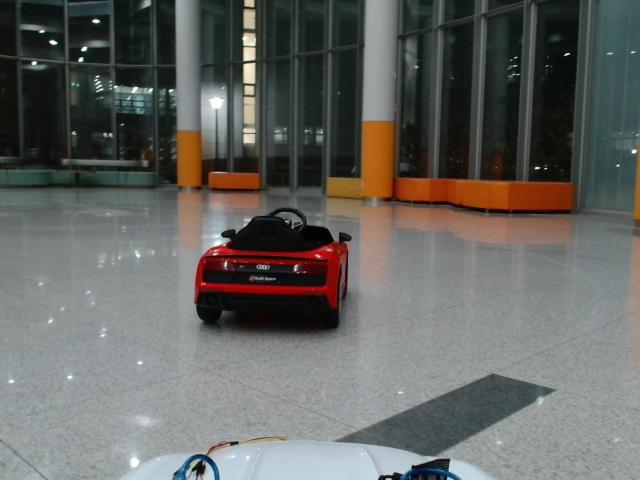car: (195, 207, 352, 330)
